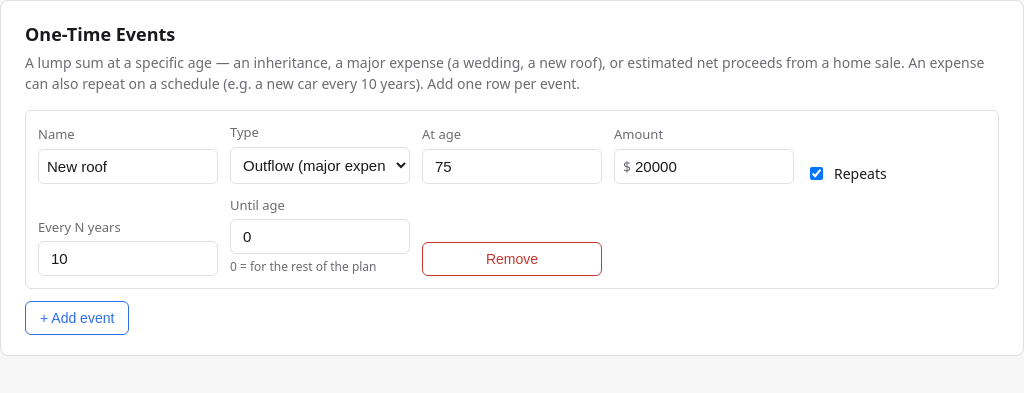
Test: OneTimeEventsSection › clears repeat fields when an outflow is switched to an inflow
The width and height of the screenshot is (1024, 393).
Select "Inflow (inheritance, home sale, gift)" in the dropdown labelled "Type" at (320, 165), box [230, 146, 410, 184]
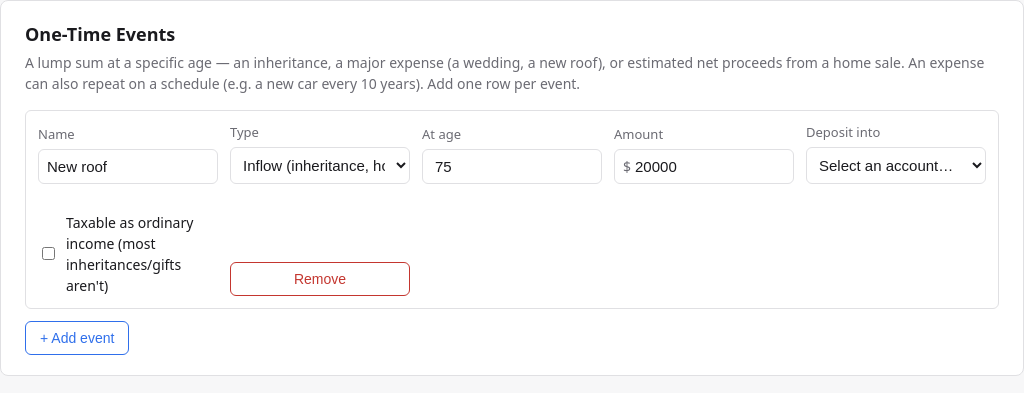
Expected: the text labelled "Repeats" is gone
